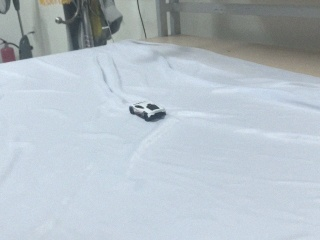toy_car: (129, 101, 166, 121)
